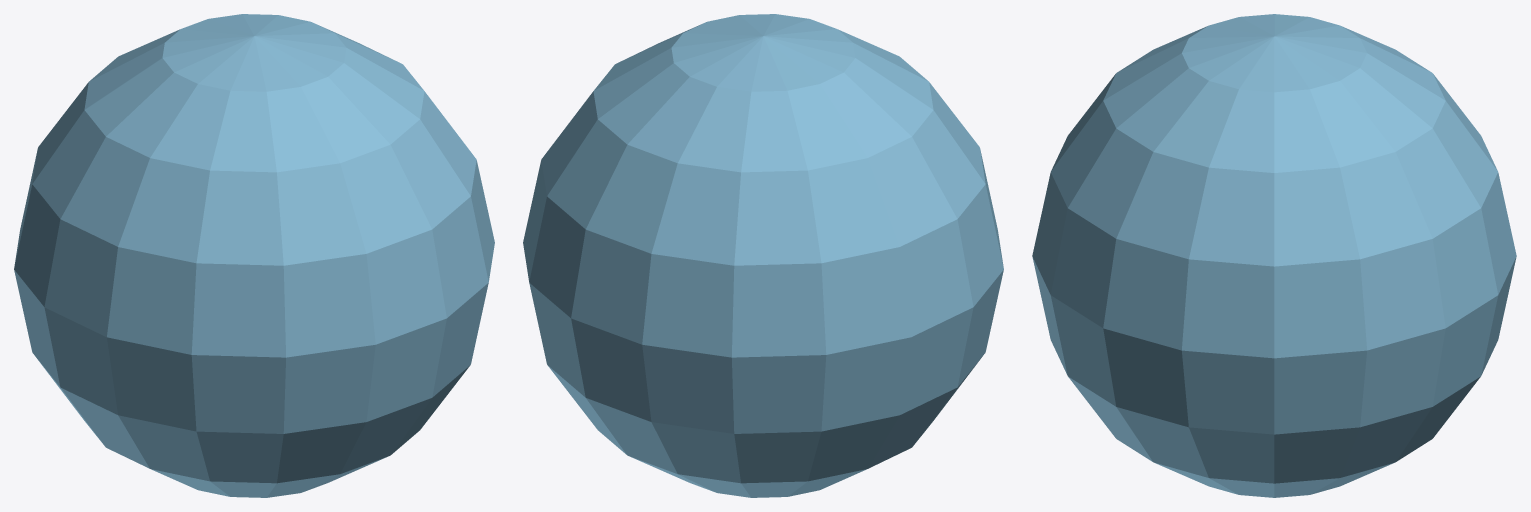
File: Vehicle.glb
The picture shows the model from 3 angles, left to right: view 1: azimuth 30°, elevation 25°; view 2: azimuth 150°, elevation 25°; view 3: azimuth 270°, elevation 25°; orthographic projection.
Parts seen in each view (by area): view 1: Sphere; view 2: Sphere; view 3: Sphere.
Boxes of the visible parts, x1,y1,x2,y2 form: Sphere: (14, 14, 494, 497); Sphere: (523, 14, 1003, 497); Sphere: (1032, 14, 1516, 497).
Size of what is drawn, in the model's own units: 2 by 2 by 2.
